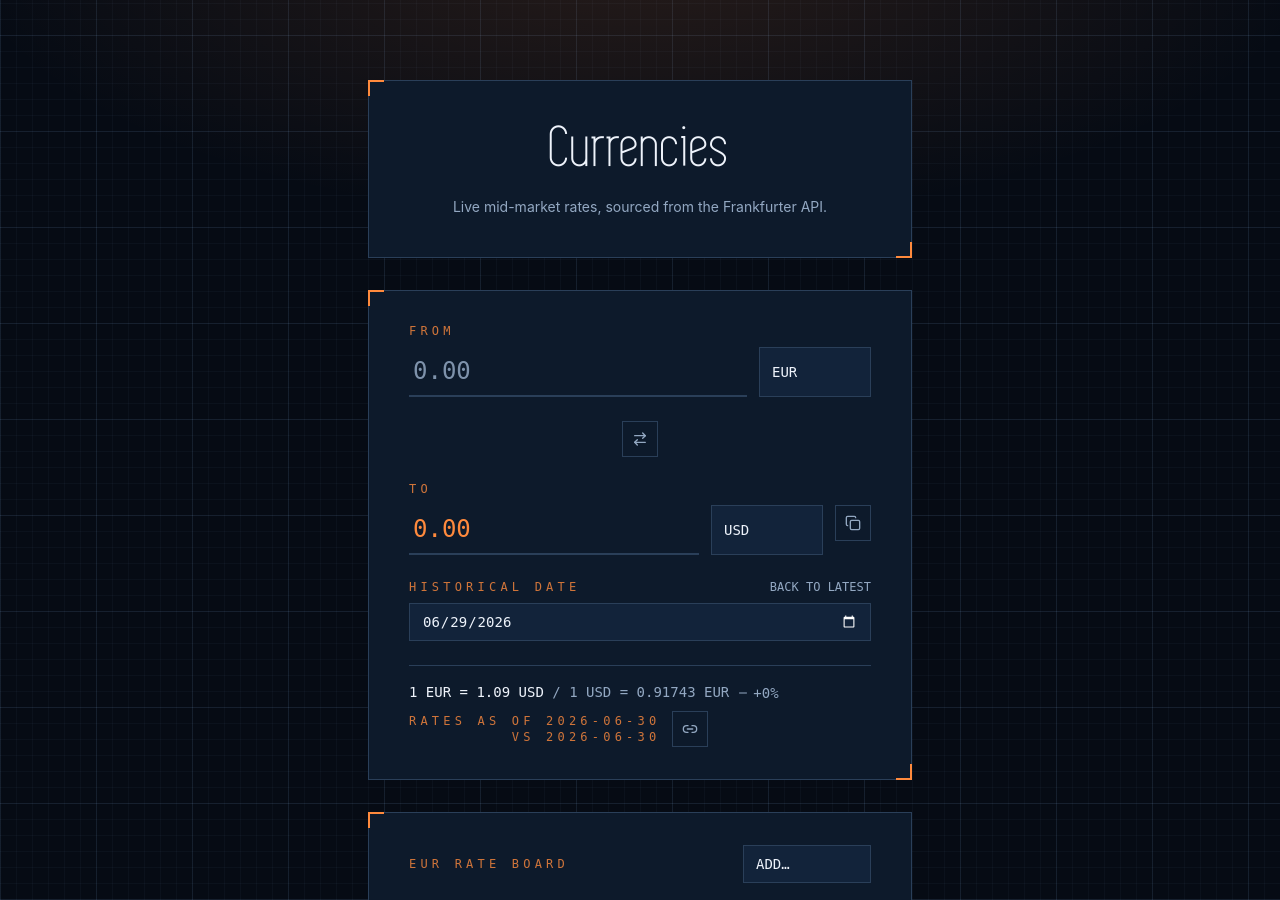
CurrenciesView › returns to latest rates and clears the date query param via the back-to-latest button
This screenshot has width=1280, height=900.
Click the button "Back to latest": (820, 587) [770,579,871,595]
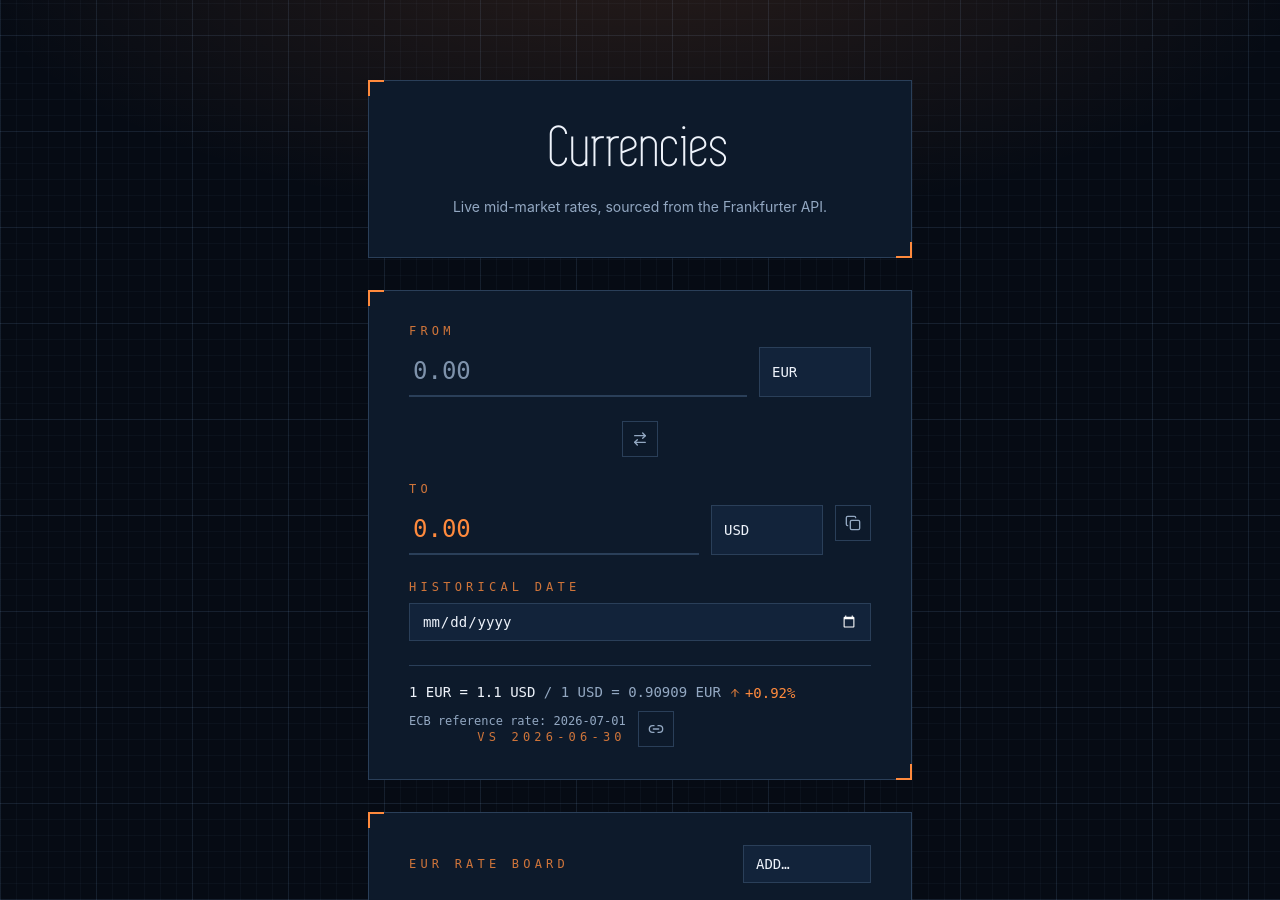
Expected: the text "Rates as of" is gone
Expected: the text "ECB reference rate: 2026-07-01" is shown, [409,713,626,729]
